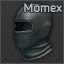Momex balaclava: (0, 0, 64, 64)
